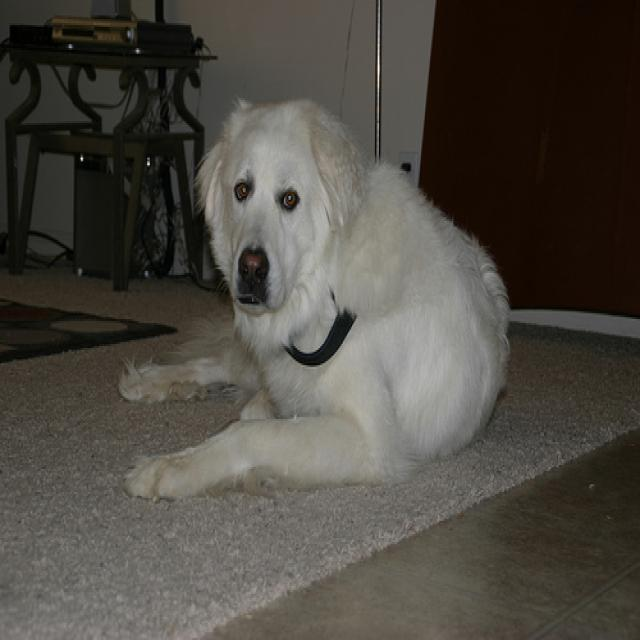dog-great_pyrenees: (120, 94, 511, 502)
